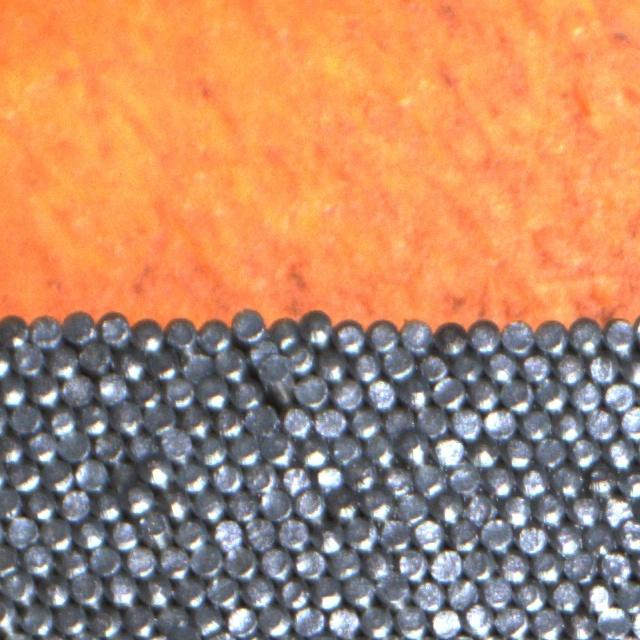tool: (399, 317, 434, 353), (602, 318, 636, 354), (500, 318, 534, 354), (432, 376, 467, 410), (568, 318, 602, 353), (80, 339, 114, 374), (300, 309, 334, 344), (534, 318, 568, 353), (428, 604, 462, 638), (62, 309, 96, 343), (12, 342, 46, 376), (10, 400, 44, 434), (463, 546, 497, 580), (331, 377, 365, 411), (534, 434, 568, 468), (377, 574, 411, 608), (214, 344, 248, 378), (292, 602, 326, 636), (3, 570, 37, 604), (378, 519, 412, 553), (190, 544, 224, 578), (381, 404, 415, 438), (92, 428, 126, 462), (197, 317, 230, 352), (46, 342, 79, 377), (277, 576, 311, 609), (429, 547, 462, 581), (586, 351, 620, 384), (28, 371, 61, 405), (568, 434, 602, 467), (231, 377, 265, 410), (484, 406, 517, 440), (518, 350, 552, 383), (569, 377, 602, 411), (531, 607, 565, 640), (161, 428, 194, 462), (38, 574, 71, 608), (232, 307, 265, 341), (344, 458, 378, 491), (481, 518, 515, 551), (366, 318, 399, 352), (262, 431, 296, 464), (535, 378, 568, 412), (122, 603, 156, 636), (277, 516, 310, 550), (533, 492, 567, 525), (24, 487, 58, 520), (496, 604, 529, 638), (445, 576, 479, 609), (164, 316, 197, 350), (70, 572, 104, 605), (395, 604, 428, 638), (175, 516, 208, 550), (500, 378, 533, 412), (447, 518, 481, 551), (550, 463, 584, 496), (138, 511, 171, 545), (252, 344, 285, 378), (29, 313, 62, 347), (399, 434, 432, 468), (196, 375, 229, 409), (123, 484, 156, 518), (467, 319, 499, 354), (327, 605, 360, 638), (382, 346, 415, 379), (225, 605, 258, 638), (61, 372, 94, 405), (516, 521, 549, 554), (586, 406, 619, 439), (515, 579, 548, 612), (360, 605, 393, 638), (89, 603, 122, 636), (467, 377, 500, 410), (552, 351, 585, 384), (416, 405, 449, 438), (190, 602, 223, 635), (519, 407, 552, 440), (155, 600, 188, 633), (260, 546, 293, 579), (568, 493, 601, 526), (180, 404, 213, 437), (177, 459, 210, 492), (294, 546, 327, 579), (59, 487, 92, 520), (342, 572, 375, 605), (211, 517, 244, 550), (416, 352, 449, 385), (414, 462, 447, 495), (296, 374, 329, 407), (448, 462, 481, 495), (451, 349, 484, 382), (41, 517, 74, 550), (21, 602, 54, 635), (98, 311, 131, 344), (260, 486, 293, 519), (179, 346, 212, 379), (599, 550, 632, 583), (160, 487, 193, 520), (246, 402, 279, 435), (480, 576, 514, 608), (530, 550, 564, 582), (463, 602, 495, 636), (78, 402, 110, 436), (75, 458, 109, 490), (226, 546, 260, 578), (258, 603, 290, 637), (334, 320, 366, 354), (228, 432, 262, 464), (132, 318, 164, 352), (361, 485, 393, 519), (6, 513, 38, 547), (602, 380, 636, 412), (142, 400, 176, 432), (585, 462, 617, 496), (464, 491, 498, 523), (344, 517, 378, 549), (549, 578, 581, 612), (366, 376, 398, 409), (412, 578, 445, 610), (282, 405, 314, 438), (364, 432, 397, 464), (314, 405, 346, 438), (484, 350, 517, 382), (564, 547, 596, 580), (26, 430, 59, 462), (242, 574, 275, 606), (211, 460, 244, 492), (316, 347, 348, 380), (174, 574, 207, 606), (58, 429, 91, 461), (107, 572, 139, 605), (433, 434, 466, 466), (330, 433, 363, 465), (208, 574, 240, 607), (140, 575, 173, 607), (90, 544, 123, 576), (412, 518, 445, 550), (311, 577, 343, 610), (243, 461, 276, 493), (193, 486, 225, 519), (160, 545, 192, 578), (54, 602, 87, 634), (8, 459, 41, 491), (362, 547, 394, 580), (396, 547, 428, 580), (42, 458, 75, 490), (497, 550, 530, 582), (501, 435, 533, 468), (327, 488, 360, 520), (312, 520, 344, 553), (484, 463, 516, 496), (516, 465, 549, 497), (142, 456, 175, 488), (348, 406, 381, 438), (552, 408, 584, 441), (500, 493, 532, 526), (551, 522, 584, 554), (127, 428, 159, 461), (450, 406, 482, 439), (96, 372, 129, 404), (244, 517, 277, 549), (602, 494, 635, 526), (433, 490, 465, 523), (395, 491, 428, 523), (398, 376, 431, 408), (597, 605, 630, 637), (436, 321, 468, 354), (112, 400, 144, 432), (125, 545, 157, 577), (313, 460, 345, 492), (164, 374, 196, 406), (284, 343, 316, 375), (328, 546, 360, 578), (213, 405, 245, 437), (468, 436, 500, 468), (57, 546, 89, 578), (584, 524, 616, 556), (604, 436, 636, 468), (116, 348, 148, 380), (280, 462, 312, 494), (108, 518, 140, 550), (75, 518, 107, 550), (22, 543, 54, 575), (294, 488, 326, 520), (227, 489, 259, 521), (382, 464, 414, 496), (349, 349, 381, 381), (298, 434, 330, 466), (46, 404, 78, 436), (146, 348, 178, 380), (90, 489, 122, 521), (268, 372, 300, 404), (268, 314, 300, 346), (196, 433, 227, 466), (108, 457, 139, 489), (565, 609, 597, 640), (585, 583, 617, 614), (131, 377, 162, 408), (0, 313, 28, 347), (0, 373, 28, 405), (0, 432, 27, 465), (617, 518, 640, 551), (617, 578, 640, 610), (0, 485, 21, 518), (619, 467, 640, 500), (620, 404, 640, 438), (0, 544, 21, 576), (621, 354, 640, 386), (0, 598, 18, 630)
